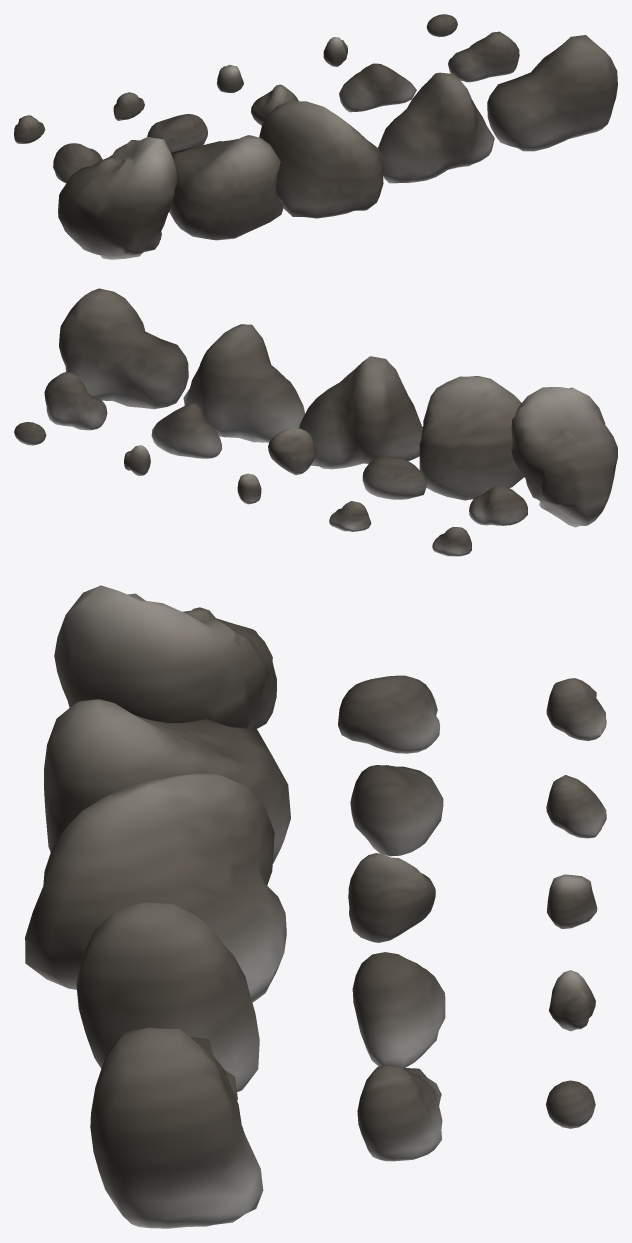
Rendered from M_RockCollection_02.fbx.
3 views of the same model, one above another, from view 1: azimuth 30°, elevation 25°; view 2: azimuth 150°, elevation 25°; view 3: azimuth 270°, elevation 25° (orthographic). The views are drawn at different scales.
Visible parts, largest first — view 1: M_Environment_StoneM_05, M_Environment_StoneM_03, M_Environment_StoneM_01, M_Environment_StoneM_04, M_Environment_StoneM_02, M_Environment_StoneS_02, M_Environment_StoneS_01, M_Environment_StoneS_04, M_Environment_StoneS_05, M_Environment_StoneS_03, M_Environment_StoneSS_05, M_Environment_StoneSS_04 (+3 smaller); view 2: M_Environment_StoneM_05, M_Environment_StoneM_01, M_Environment_StoneM_04, M_Environment_StoneM_03, M_Environment_StoneM_02, M_Environment_StoneS_02, M_Environment_StoneS_01, M_Environment_StoneS_04, M_Environment_StoneS_05, M_Environment_StoneS_03, M_Environment_StoneSS_04, M_Environment_StoneSS_05 (+3 smaller); view 3: M_Environment_StoneM_03, M_Environment_StoneM_01, M_Environment_StoneM_05, M_Environment_StoneM_02, M_Environment_StoneM_04, M_Environment_StoneS_02, M_Environment_StoneS_01, M_Environment_StoneS_04, M_Environment_StoneS_05, M_Environment_StoneS_03, M_Environment_StoneSS_05, M_Environment_StoneSS_04 (+3 smaller).
Part boxes in pixels (left/top/right/bottom): M_Environment_StoneM_05: left=58, top=137, right=177, bottom=259; M_Environment_StoneM_03: left=259, top=101, right=386, bottom=218; M_Environment_StoneM_01: left=487, top=35, right=617, bottom=151; M_Environment_StoneM_04: left=169, top=135, right=283, bottom=240; M_Environment_StoneM_02: left=378, top=72, right=494, bottom=183; M_Environment_StoneS_02: left=339, top=63, right=416, bottom=112; M_Environment_StoneS_01: left=448, top=31, right=519, bottom=82; M_Environment_StoneS_04: left=147, top=114, right=207, bottom=152; M_Environment_StoneS_05: left=53, top=143, right=102, bottom=183; M_Environment_StoneS_03: left=251, top=84, right=298, bottom=125; M_Environment_StoneSS_05: left=14, top=115, right=45, bottom=143; M_Environment_StoneSS_04: left=113, top=92, right=144, bottom=120; M_Environment_StoneM_05: left=511, top=387, right=617, bottom=527; M_Environment_StoneM_01: left=59, top=288, right=188, bottom=409; M_Environment_StoneM_04: left=419, top=376, right=523, bottom=500; M_Environment_StoneM_03: left=299, top=356, right=422, bottom=469; M_Environment_StoneM_02: left=183, top=324, right=304, bottom=442; M_Environment_StoneS_02: left=151, top=403, right=222, bottom=458; M_Environment_StoneS_01: left=44, top=372, right=107, bottom=430; M_Environment_StoneS_04: left=362, top=456, right=427, bottom=499; M_Environment_StoneS_05: left=469, top=485, right=527, bottom=525; M_Environment_StoneS_03: left=268, top=428, right=316, bottom=475; M_Environment_StoneSS_04: left=329, top=501, right=371, bottom=531; M_Environment_StoneSS_05: left=432, top=527, right=471, bottom=556; M_Environment_StoneM_03: left=25, top=771, right=286, bottom=1002; M_Environment_StoneM_01: left=90, top=1027, right=263, bottom=1228; M_Environment_StoneM_05: left=54, top=585, right=276, bottom=729; M_Environment_StoneM_02: left=76, top=902, right=259, bottom=1091; M_Environment_StoneM_04: left=44, top=699, right=290, bottom=863; M_Environment_StoneS_02: left=352, top=952, right=445, bottom=1067; M_Environment_StoneS_01: left=357, top=1065, right=442, bottom=1161; M_Environment_StoneS_04: left=350, top=765, right=443, bottom=856; M_Environment_StoneS_05: left=338, top=675, right=440, bottom=753; M_Environment_StoneS_03: left=348, top=853, right=435, bottom=942; M_Environment_StoneSS_05: left=546, top=678, right=606, bottom=740; M_Environment_StoneSS_04: left=546, top=775, right=606, bottom=838.
Size of the model in its own units: 2982 by 614 by 1396.
